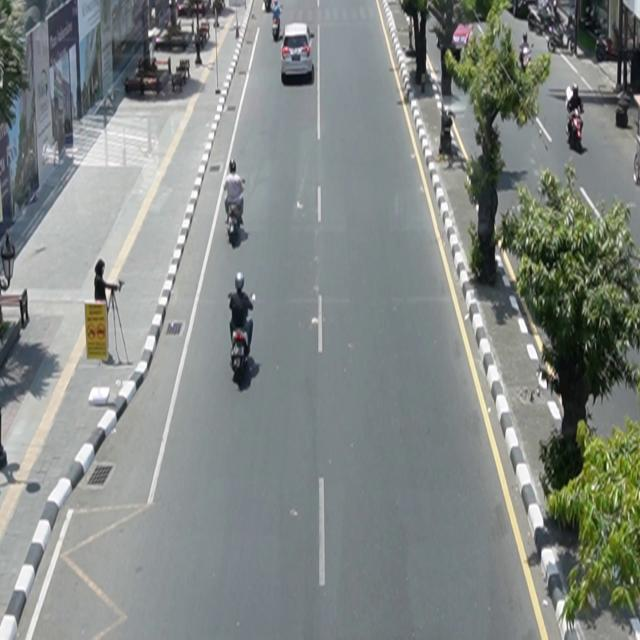car: (281, 22, 315, 83)
